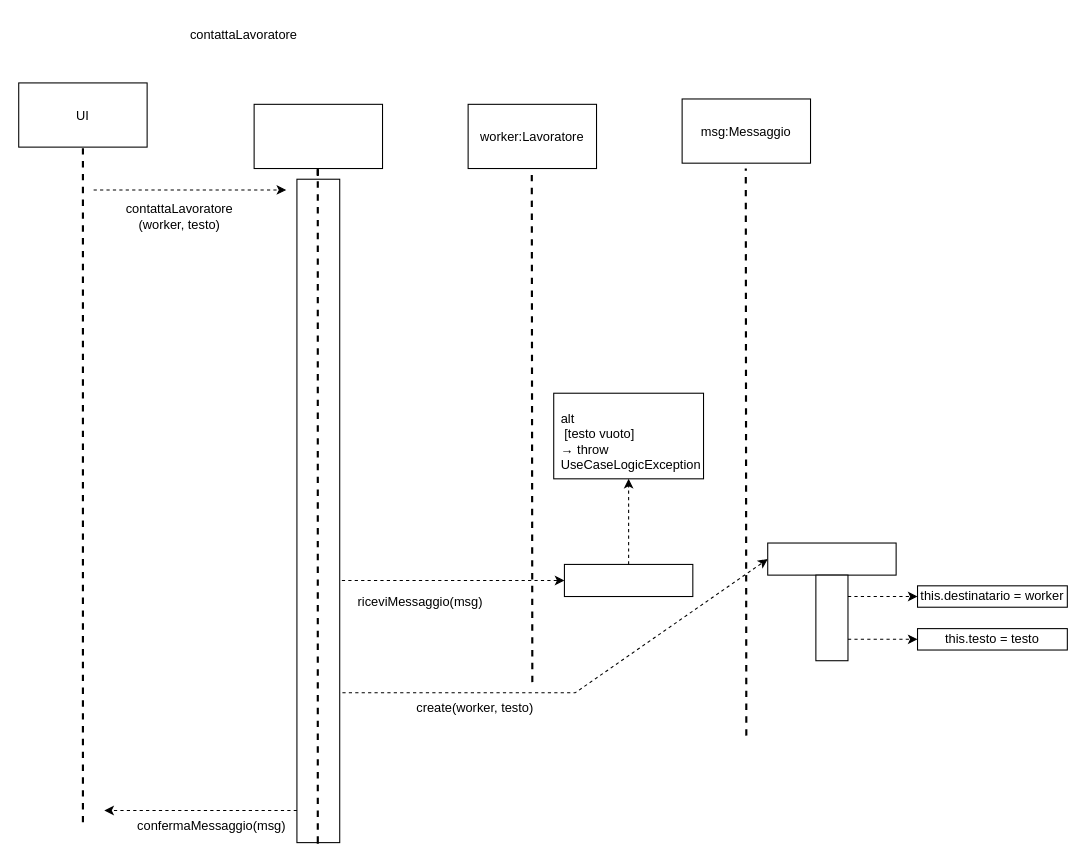
Some shapes in this 1086 by 863 pixel diagram are drawn without their labels. Here are the shapes that lost their labels. From the top down, the centre of each, then its label:
point (318, 136): staffMgr: StaffManager
point (831, 558): create
point (628, 580): ricevimento
